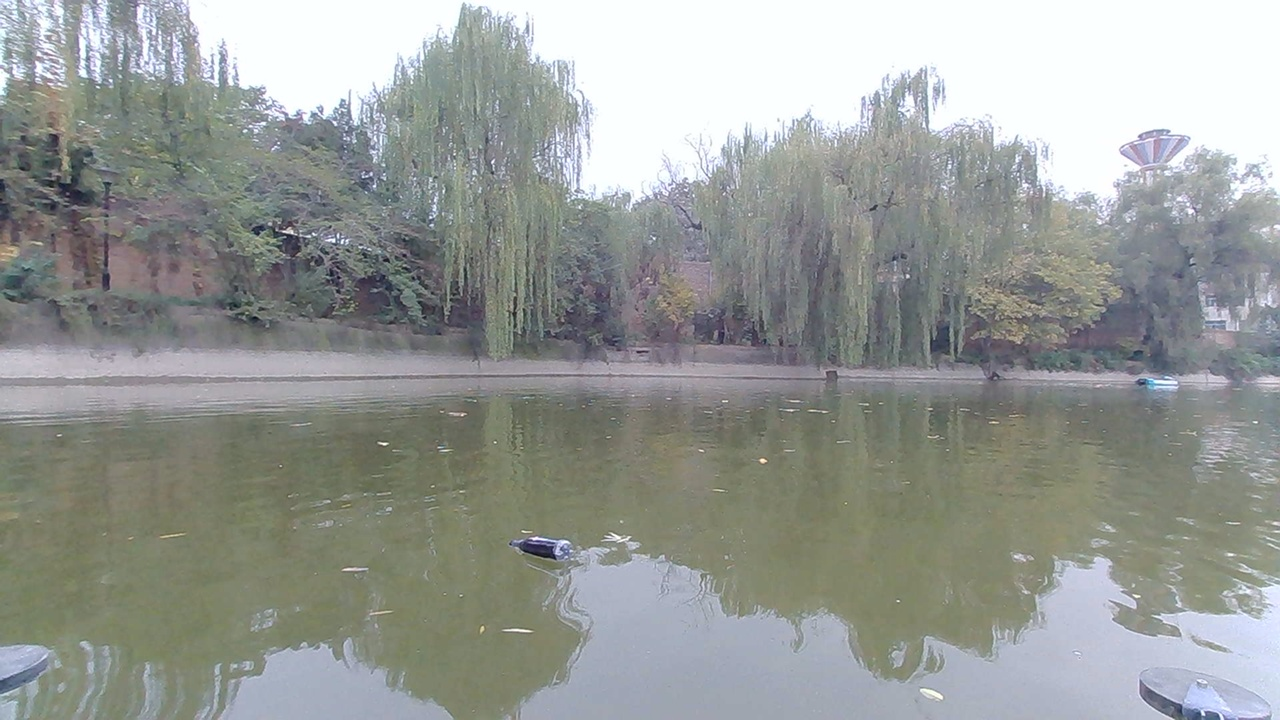bottle: (525, 535, 579, 569)
